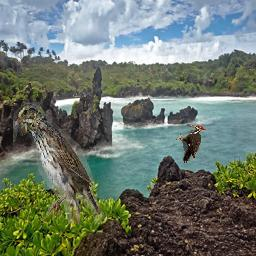Sparrow: (14, 102, 107, 224)
Woodpecker: (176, 125, 207, 164)
